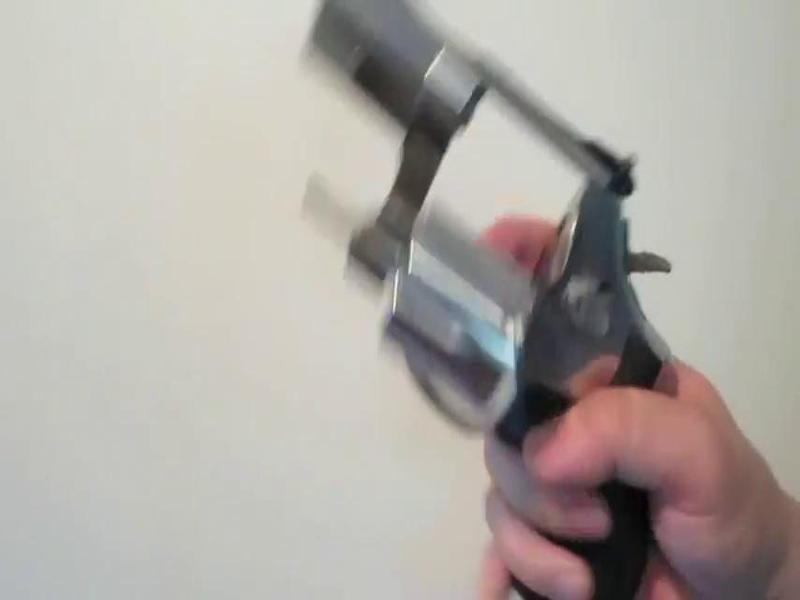Revolver: (273, 1, 681, 579)
